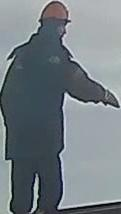gloves: (98, 87, 120, 110)
helmet: (38, 1, 71, 21)
vest: (6, 44, 66, 152)
